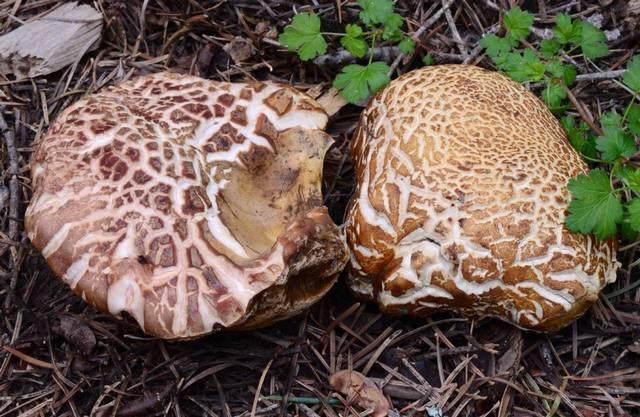Edible Mushroom: (23, 69, 349, 341), (342, 62, 620, 333)
